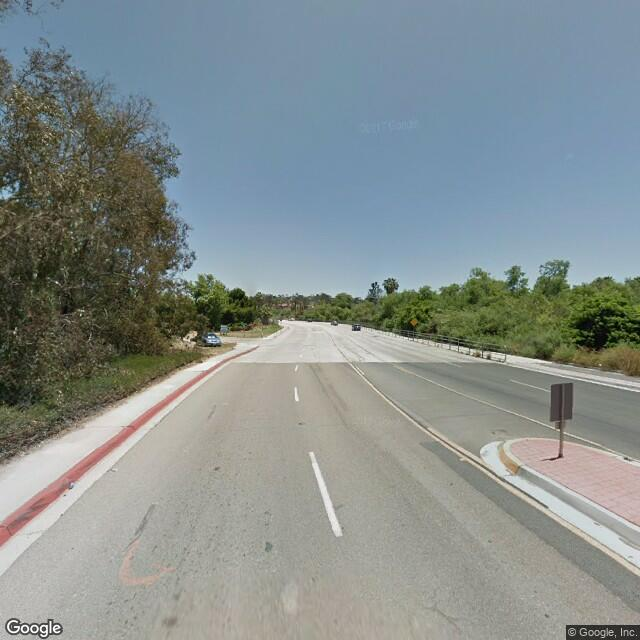litter: (67, 481, 77, 492), (596, 361, 603, 368)
